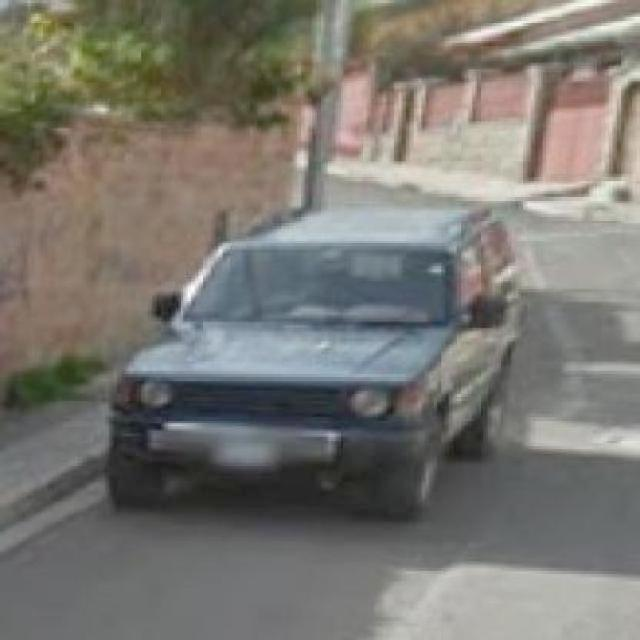car: (122, 182, 516, 509)
